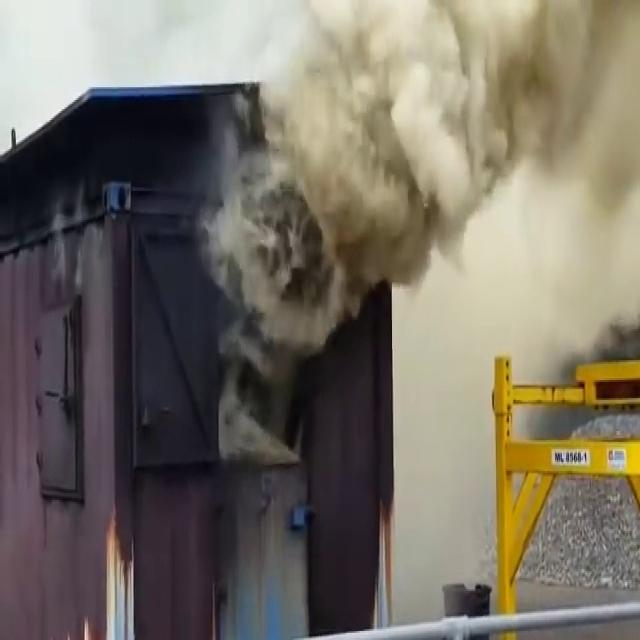Smoke: (245, 0, 640, 330)
